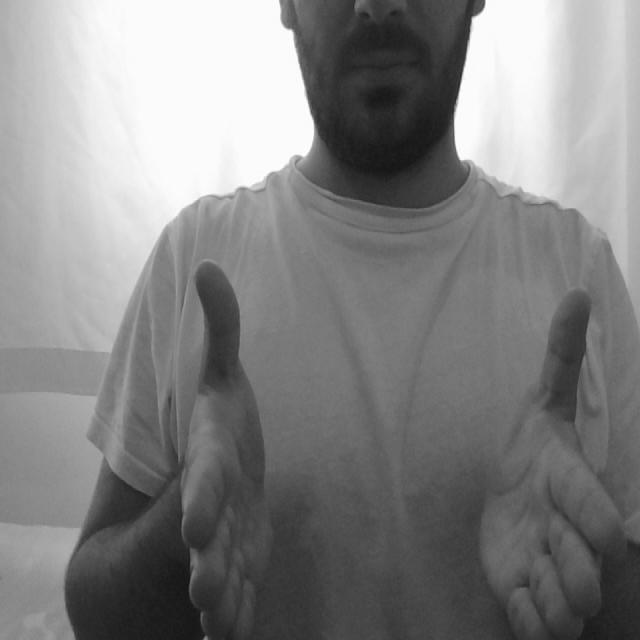Nasil: (170, 255, 625, 640)
